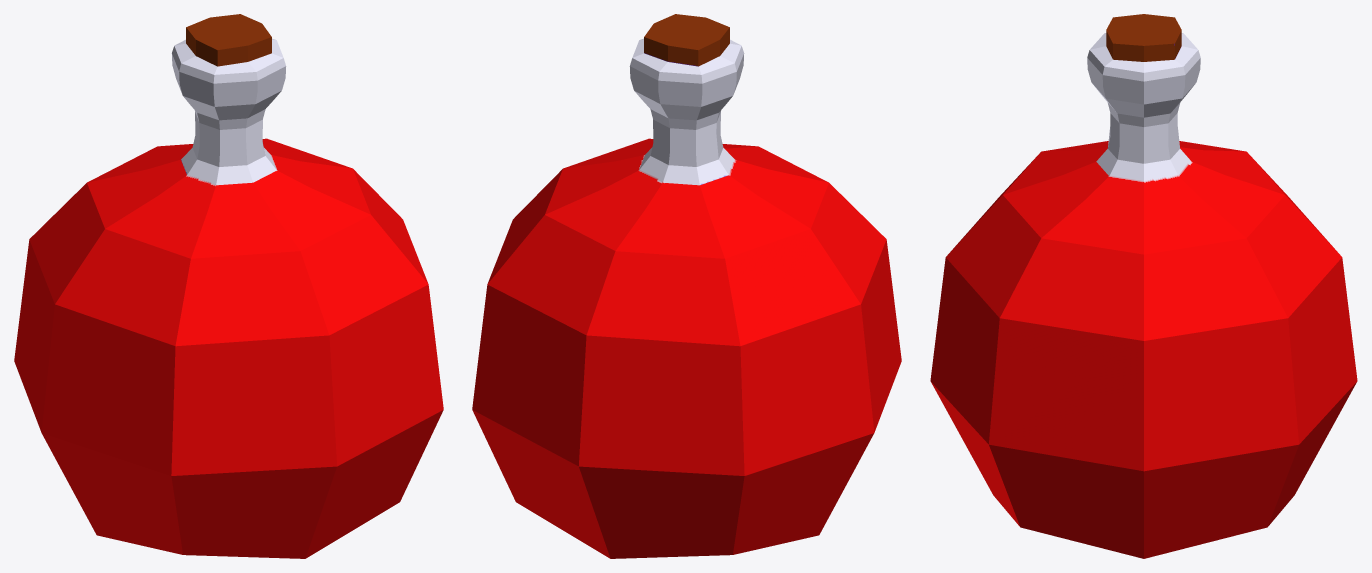
Rendered from HealthPotion.fbx.
3 views of the same model, side by side, from view 1: azimuth 30°, elevation 25°; view 2: azimuth 150°, elevation 25°; view 3: azimuth 270°, elevation 25° (orthographic).
Parts seen in each view (by area): view 1: Cube; view 2: Cube; view 3: Cube.
Boxes of the visible parts, left/top/right/bottom form: Cube: left=14, top=14, right=443, bottom=558; Cube: left=472, top=14, right=901, bottom=558; Cube: left=930, top=14, right=1357, bottom=558.
Bounding box in the file's own units: 135 × 135 × 177.
Materials: 1 (1 with a texture image).
